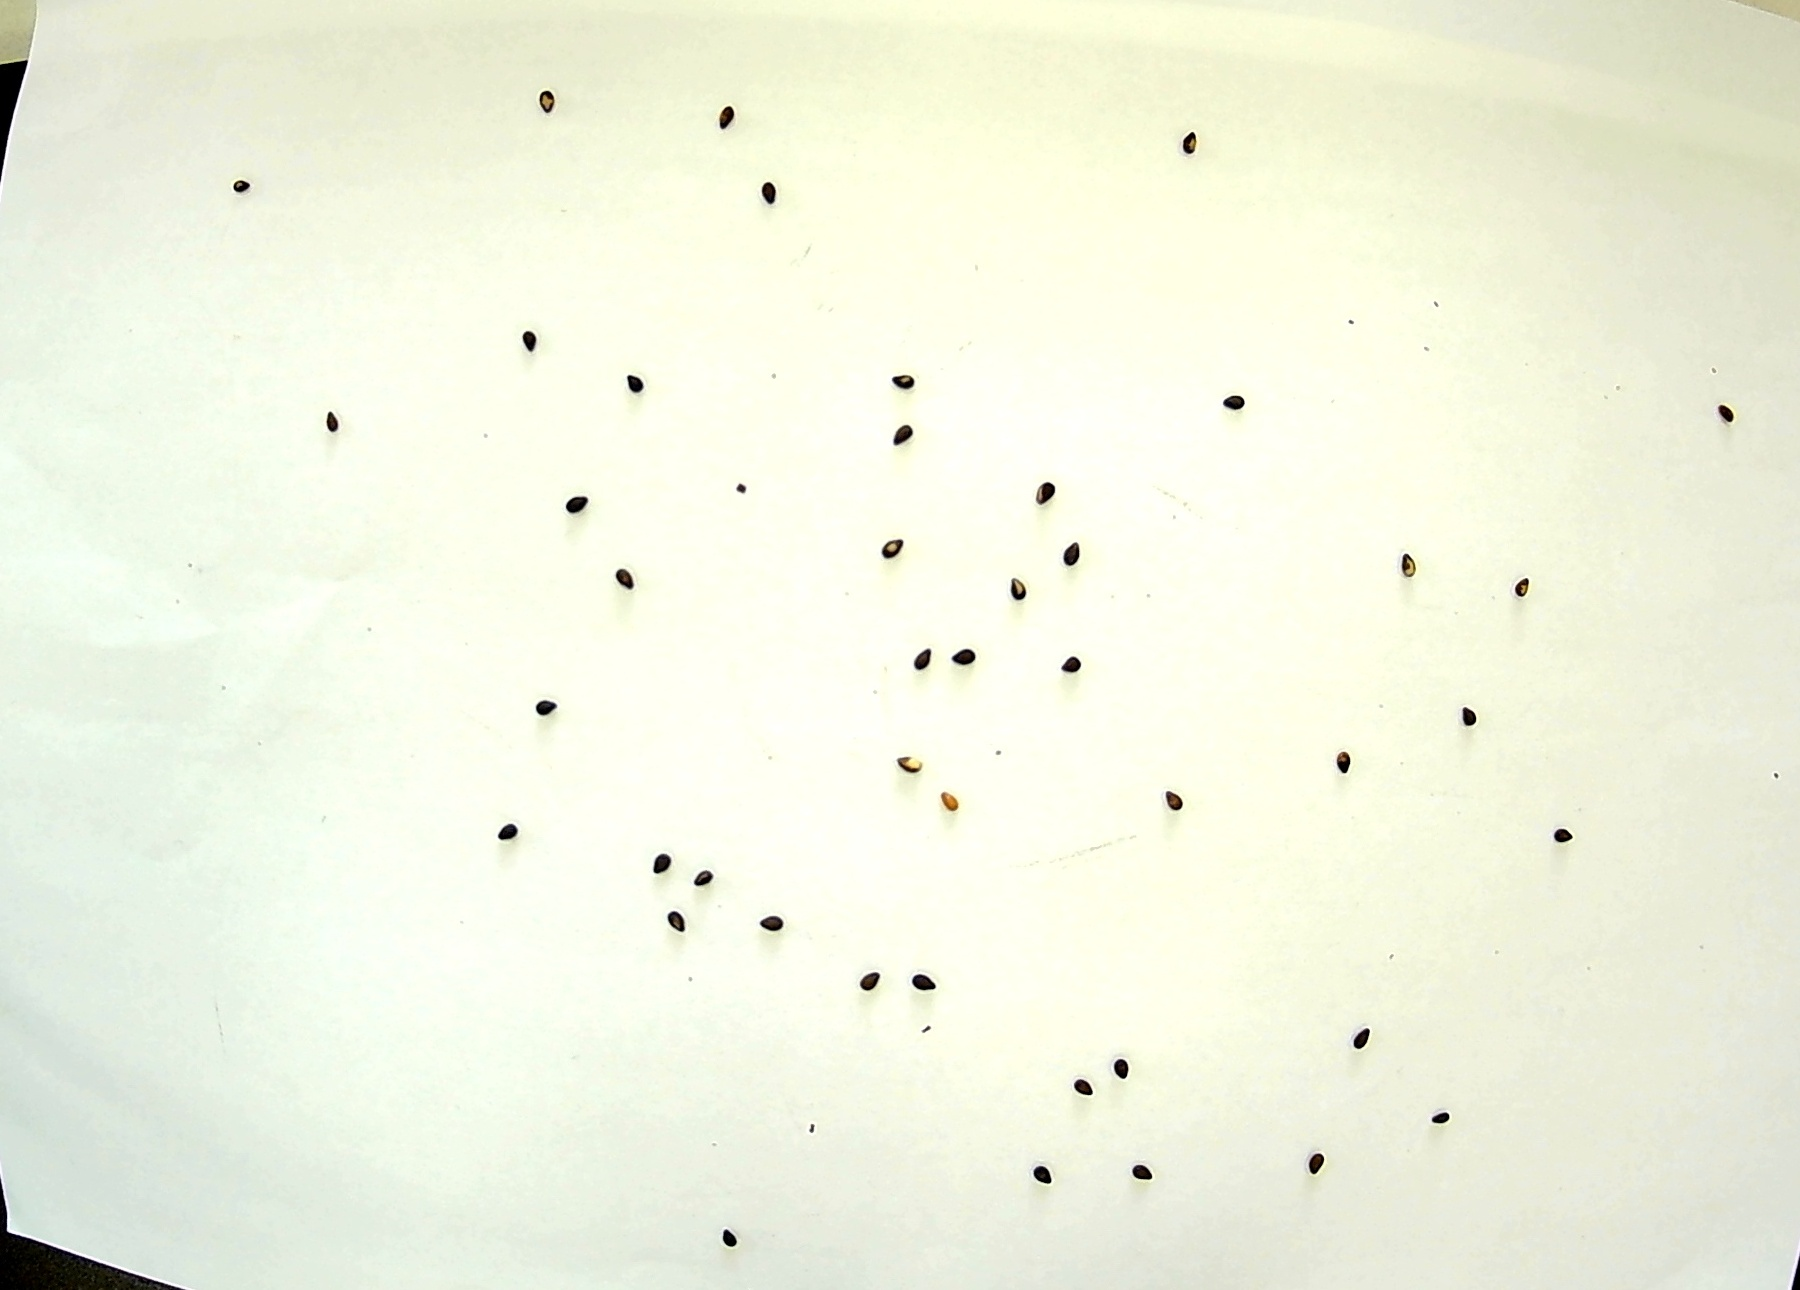sesami: (512, 322, 544, 356), (315, 410, 347, 444), (887, 415, 920, 448), (1027, 472, 1059, 505), (1053, 539, 1086, 572), (1222, 391, 1254, 424), (1386, 543, 1418, 577), (1507, 565, 1539, 599), (1451, 697, 1483, 730), (1349, 1026, 1381, 1060), (1427, 1106, 1460, 1139), (1127, 1153, 1160, 1187), (1065, 1068, 1097, 1102), (1111, 1053, 1143, 1086), (910, 967, 942, 1001), (993, 574, 1026, 607), (893, 747, 925, 780), (646, 842, 678, 875), (495, 815, 527, 849), (755, 177, 787, 211), (707, 99, 740, 133), (530, 88, 562, 121), (222, 168, 254, 201), (613, 364, 645, 396), (558, 491, 590, 524), (610, 563, 642, 595), (880, 533, 913, 565), (1173, 119, 1206, 151), (1711, 396, 1743, 429), (1550, 820, 1582, 852), (1303, 1150, 1335, 1182), (1024, 1157, 1056, 1189), (712, 1224, 744, 1256), (861, 970, 893, 1002), (1160, 787, 1192, 820), (1338, 746, 1370, 778), (946, 639, 978, 672), (913, 644, 945, 676), (928, 785, 960, 817), (753, 903, 786, 935), (692, 859, 724, 891), (653, 907, 685, 940), (534, 685, 567, 718), (1065, 646, 1095, 680), (893, 369, 924, 401), (225, 170, 255, 202)
